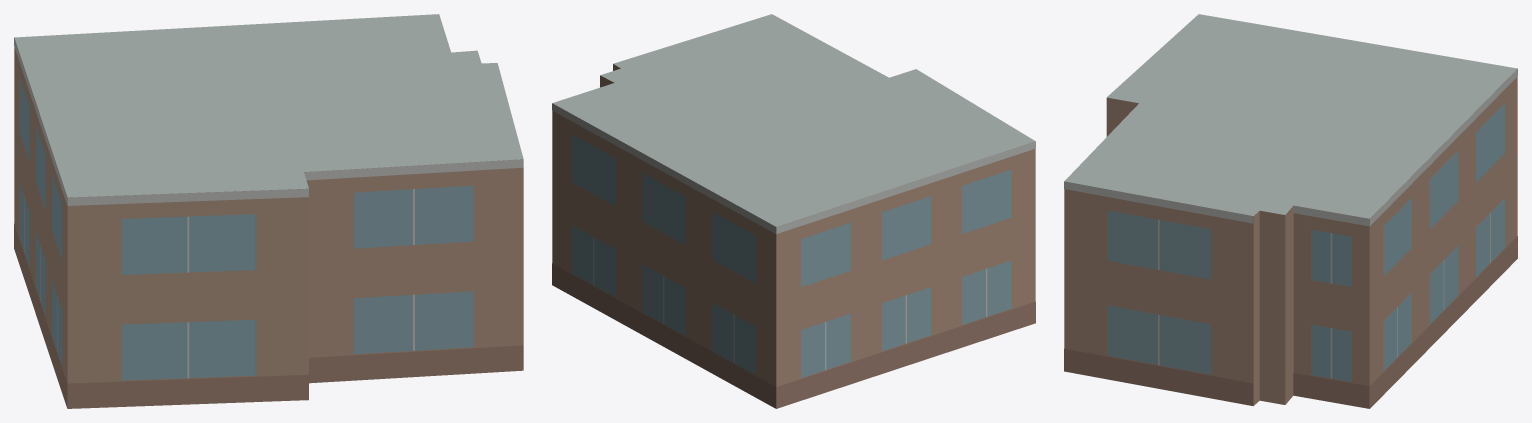
Rendered from survey-upis-32802435.glb.
3 renders of one model, left to right at view 1: azimuth 30°, elevation 25°; view 2: azimuth 150°, elevation 25°; view 3: azimuth 270°, elevation 25°, orthographic. The views are drawn at different scales.
Parts seen in each view (by area): view 1: survey-upis-32802435.tmp; view 2: survey-upis-32802435.tmp; view 3: survey-upis-32802435.tmp.
Boxes of the visible parts, x1=… form: survey-upis-32802435.tmp: x1=14, y1=14, x2=523, y2=408; survey-upis-32802435.tmp: x1=552, y1=14, x2=1035, y2=408; survey-upis-32802435.tmp: x1=1064, y1=14, x2=1517, y2=408.
Size of the model in its own units: 14.11 by 6.1 by 13.21.
